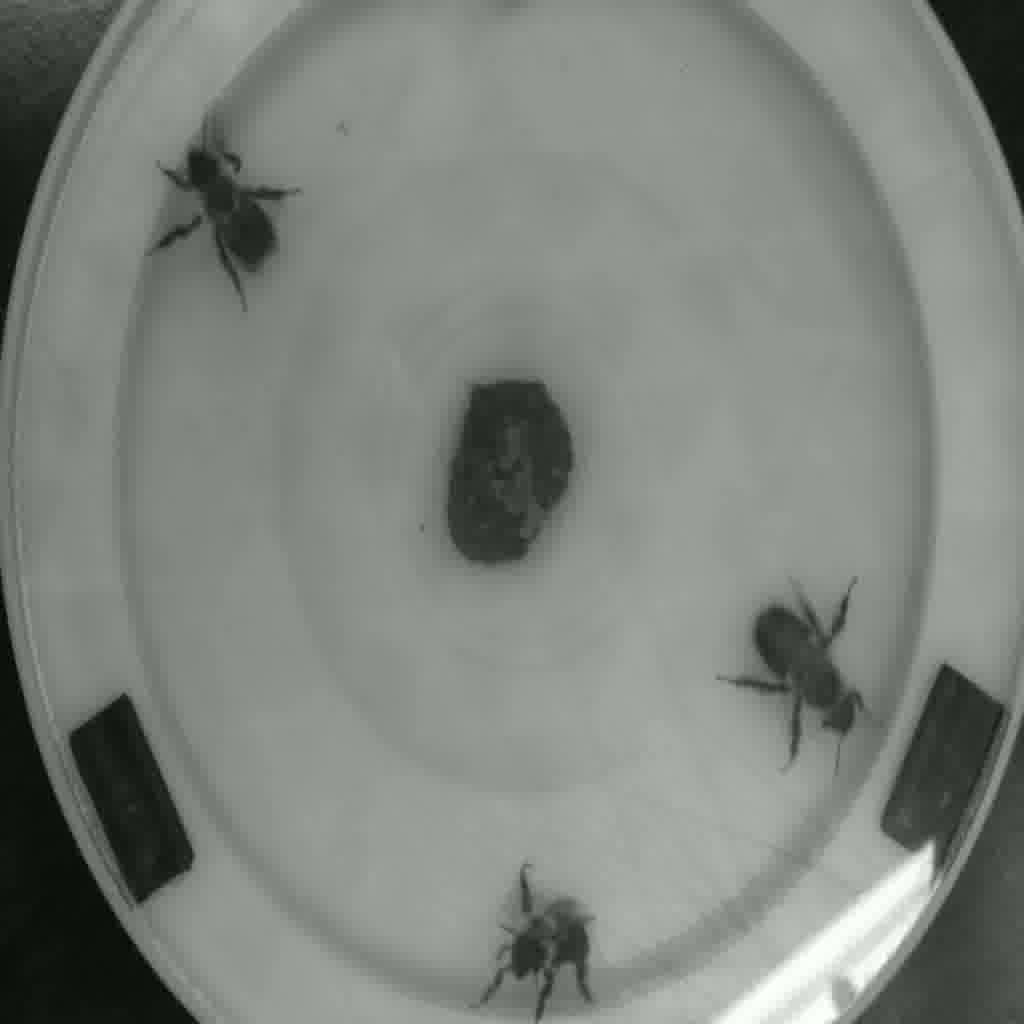bee: (727, 617, 867, 746), (172, 140, 301, 277), (481, 888, 604, 1013)
